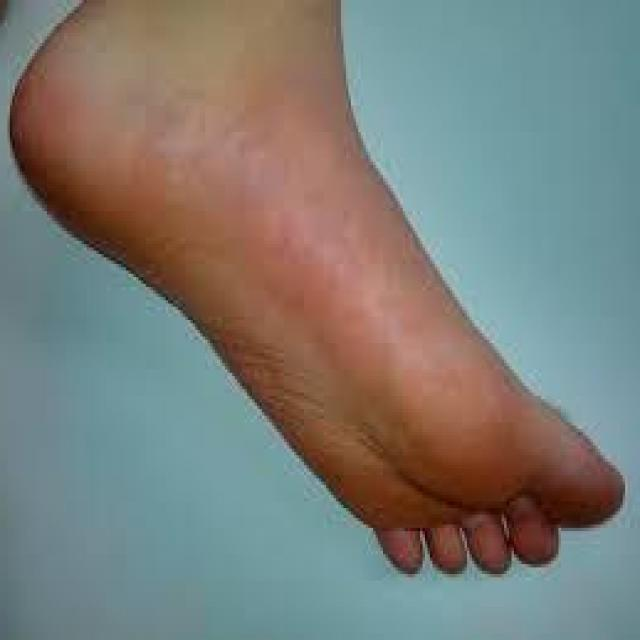No_Shoes: (42, 16, 610, 593)
